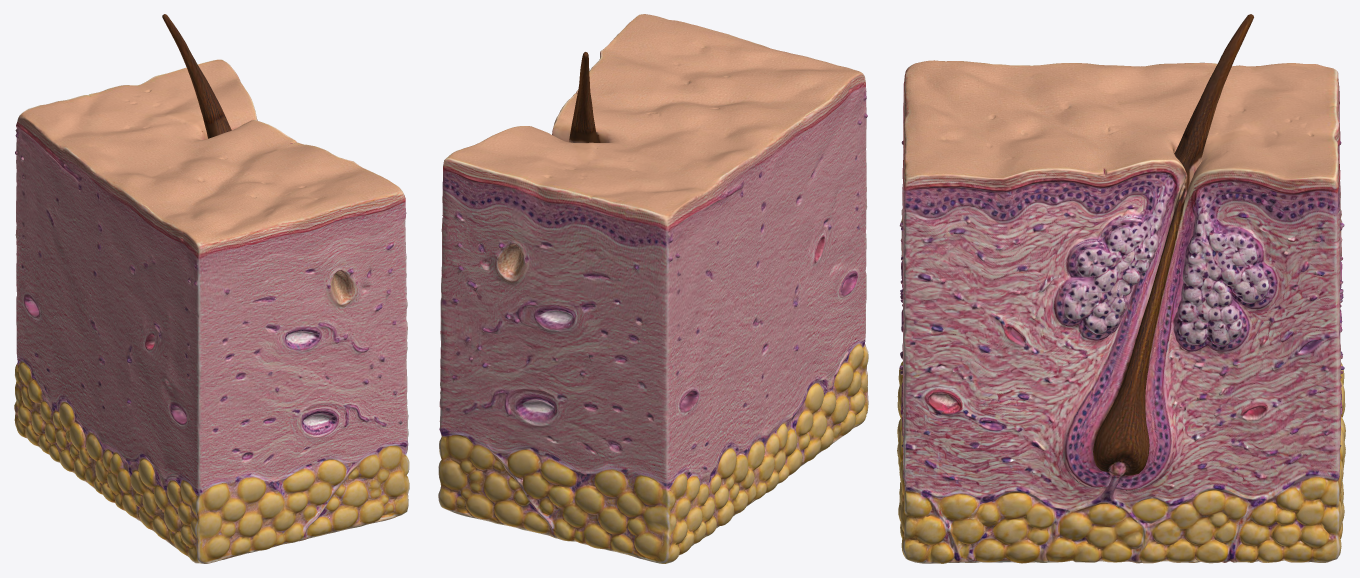
The model's file is pele_fina_ia_b.glb.
3 renders of one model, left to right at view 1: azimuth 30°, elevation 25°; view 2: azimuth 150°, elevation 25°; view 3: azimuth 270°, elevation 25°, orthographic. The views are drawn at different scales.
Parts seen in each view (by area): view 1: tripo_node_91619b24-2a42-4135-883d-f4cd13d822cd; view 2: tripo_node_91619b24-2a42-4135-883d-f4cd13d822cd; view 3: tripo_node_91619b24-2a42-4135-883d-f4cd13d822cd.
Part boxes in pixels (<box>): tripo_node_91619b24-2a42-4135-883d-f4cd13d822cd: <box>14,14,409,563</box>; tripo_node_91619b24-2a42-4135-883d-f4cd13d822cd: <box>438,14,868,563</box>; tripo_node_91619b24-2a42-4135-883d-f4cd13d822cd: <box>897,14,1345,563</box>.
Bounding box in the file's own units: 0.6013 × 1 × 0.822.
1 material, 1 textured.
